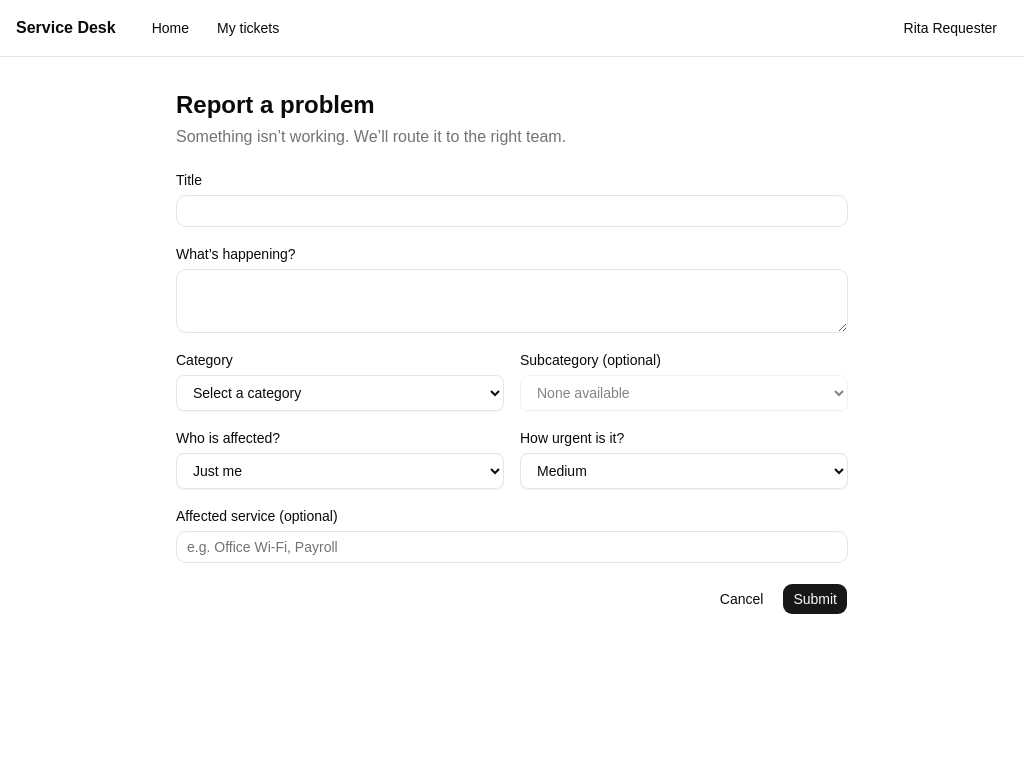
Scenario: report a problem › validates required fields before submitting
Click the button "Submit" at point(815, 599), box left=782, top=583, right=848, bottom=615
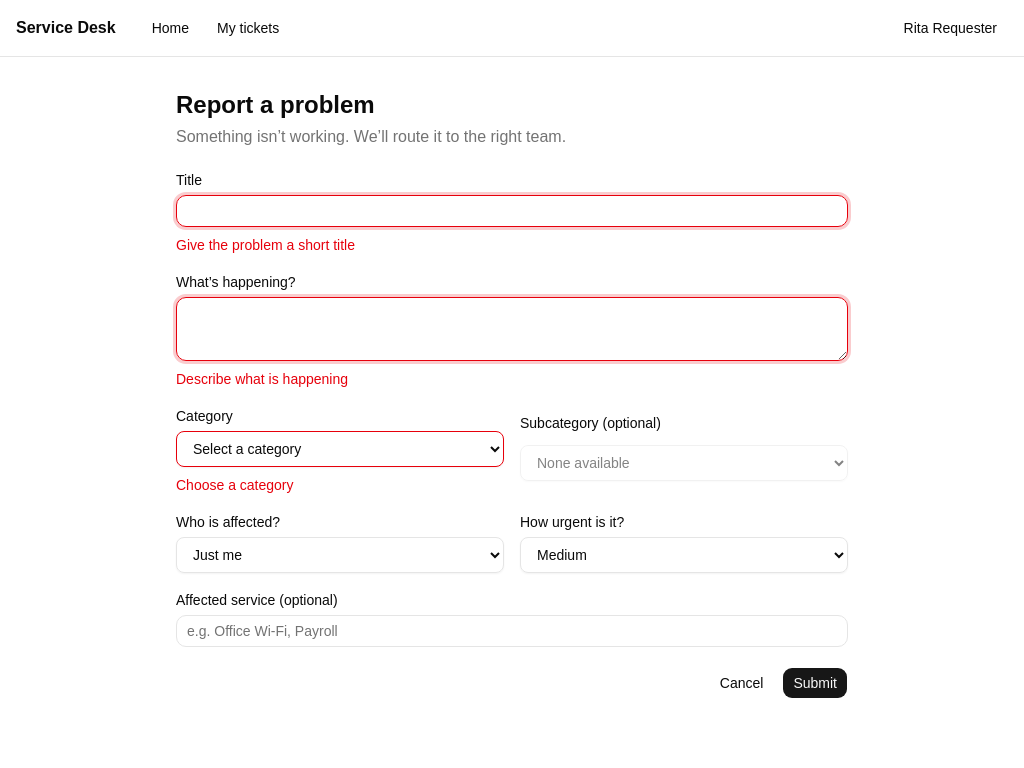
Now the text "Give the problem a short title" is shown, box left=176, top=237, right=355, bottom=253
Now the text "Describe what is happening" is shown, box left=176, top=371, right=348, bottom=387
Now the text "Choose a category" is shown, box left=176, top=477, right=294, bottom=493
